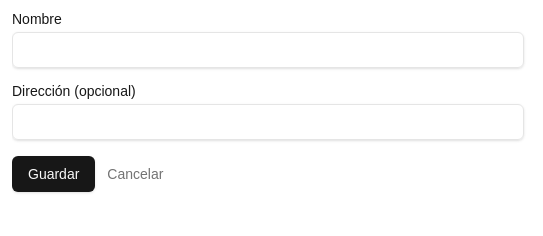
Test: LocationForm › should_keep_the_typed_values_when_the_submission_is_rejected
In the field labelled "Nombre": (268, 50) x1=12 y1=32 x2=524 y2=68, type "Sucursal Centro"
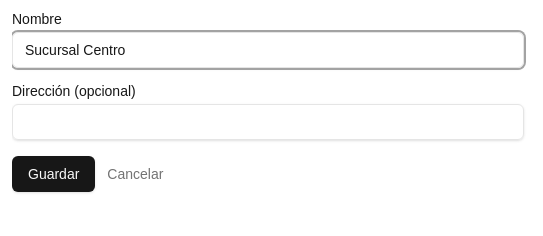
In the field labelled "Dirección (opcional)": (268, 122) x1=12 y1=104 x2=524 y2=140, type "Av. Corrientes 1234"
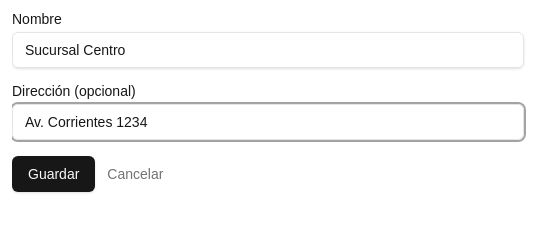
Click the button "Guardar": (54, 174) x1=12 y1=156 x2=95 y2=192
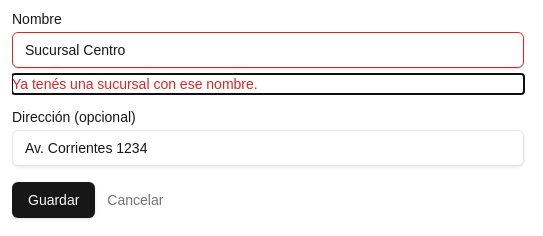
Expected: the message "Ya tenés una sucursal con ese nombre." is shown, x1=12 y1=76 x2=258 y2=92
